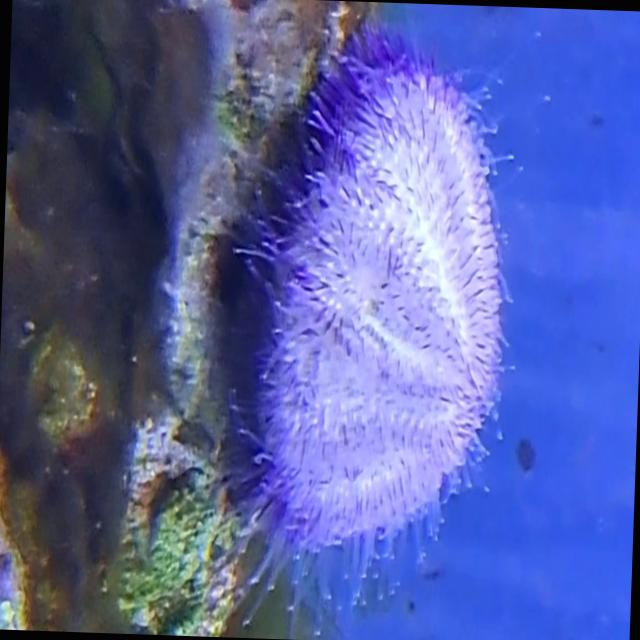Deniz Kestanesi: (218, 0, 537, 583)
